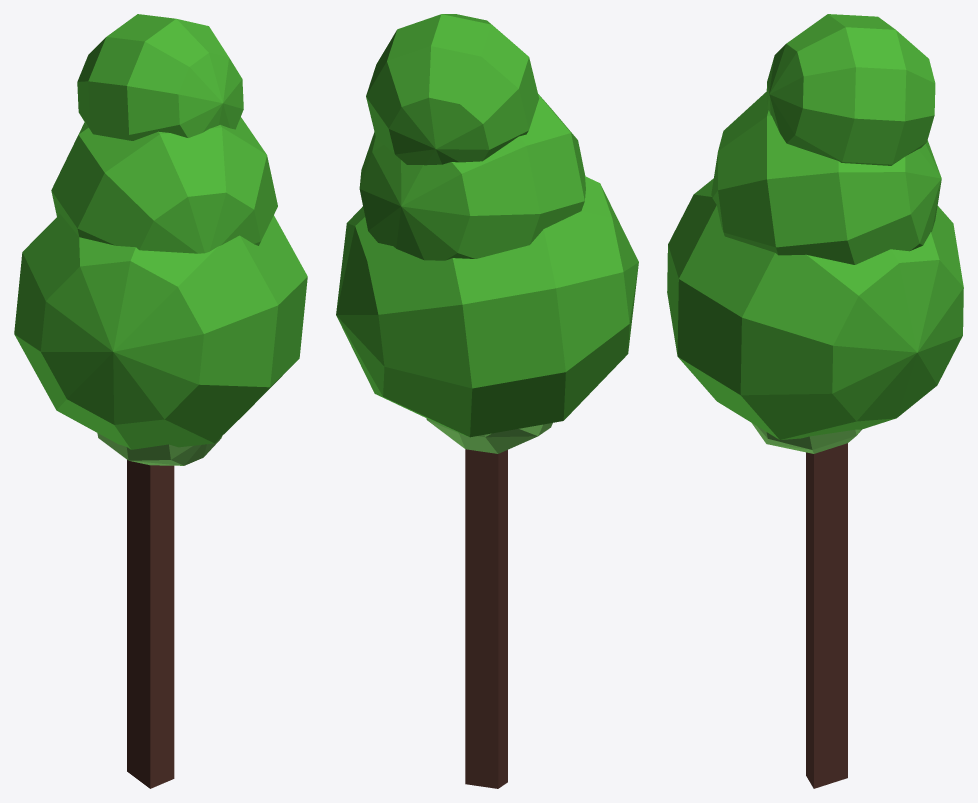
Rendered from tree_2_1.dae.
3 renders of one model, left to right at view 1: azimuth 30°, elevation 25°; view 2: azimuth 150°, elevation 25°; view 3: azimuth 270°, elevation 25°, orthographic. The views are drawn at different scales.
Parts seen in each view (by area): view 1: tree_2_1; view 2: tree_2_1; view 3: tree_2_1.
Part boxes in pixels (box(x1,y1,x2,y2)): tree_2_1: box(14, 14, 307, 788); tree_2_1: box(336, 14, 638, 788); tree_2_1: box(667, 14, 963, 788).
Size of the model in its own units: 1.53 by 1.47 by 4.23.
1 material, 1 textured.
